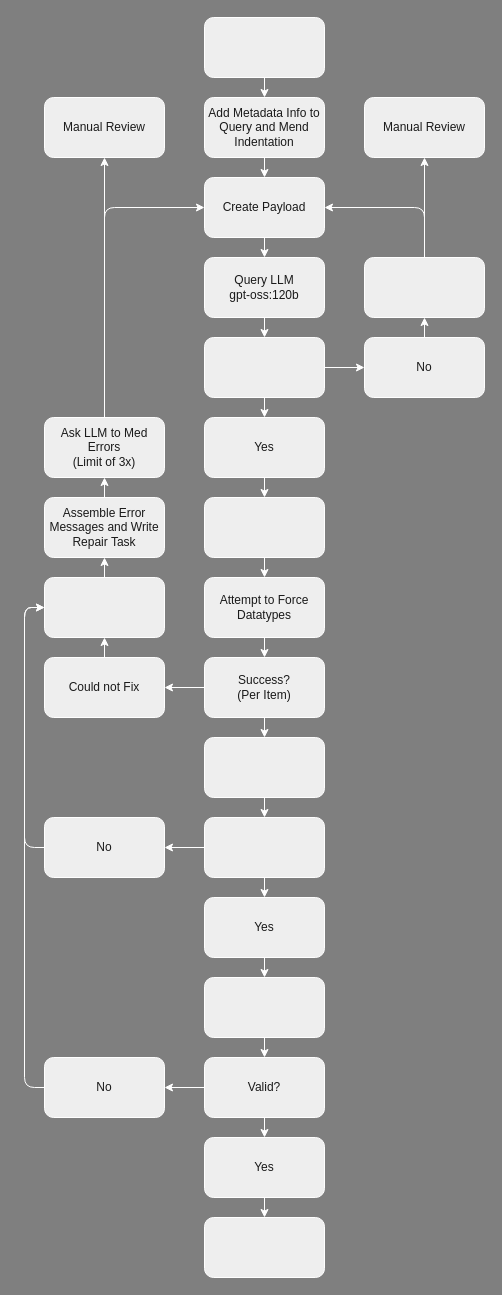
The diagram is 502 pixels wide and 1295 high, and some of its shapes have lost their labels. The shapes that lost their labels are listed below. From the top down, each one's box as (x1, y1, x2, y2) in pixels, then its label:
(204, 16, 324, 78): Input Query
(364, 256, 484, 318): Use Stochasticity to Mend Structure (Limit of 3x)
(204, 336, 324, 398): JSON Structure Valid?
(204, 496, 324, 558): Force to Python Dict and Check Metadata
(44, 576, 164, 638): Generate Error Message Per Error
(204, 736, 324, 798): Check to Make Sure MetaData Evidence Exists within Transcript
(204, 816, 324, 878): Exists?
(204, 976, 324, 1038): Use Template to Validate Result
(204, 1216, 324, 1278): Output Safeguarded Response
